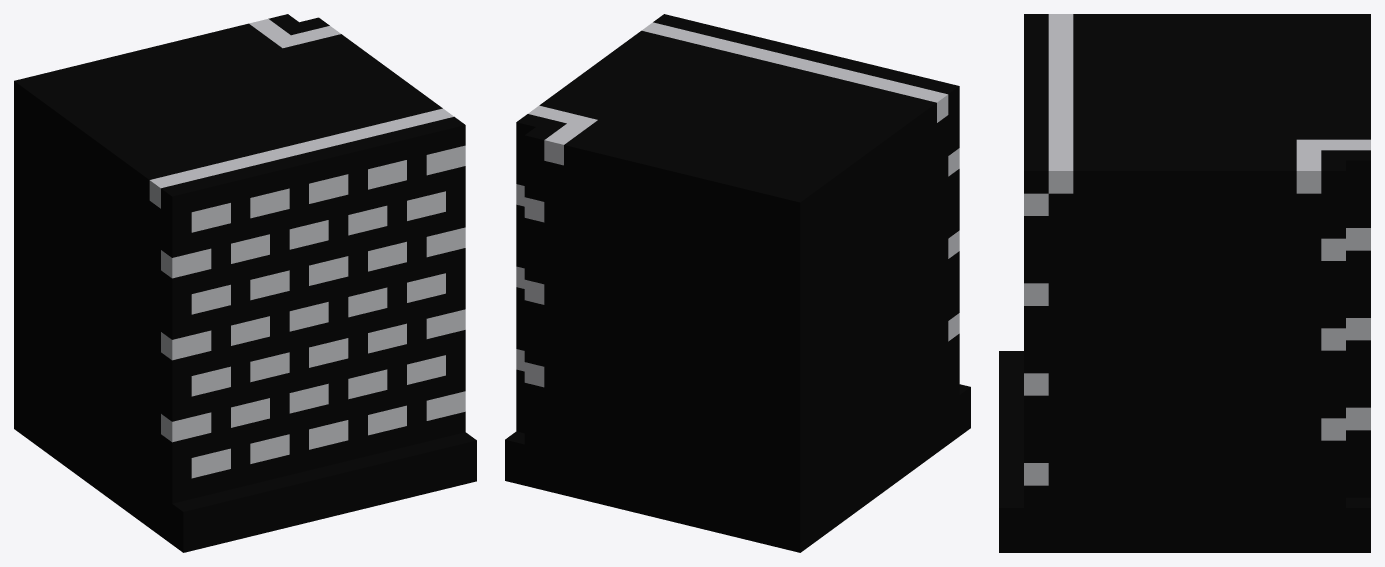
Rendered from dungeon_d_a_outer_wall_segment_d_flipped.obj.
3 views of the same model, side by side, from view 1: azimuth 30°, elevation 25°; view 2: azimuth 150°, elevation 25°; view 3: azimuth 270°, elevation 25° (orthographic). The views are drawn at different scales.
Bounding box in the file's own units: 1.5 × 1.7 × 1.5.
1 material, 1 textured.
